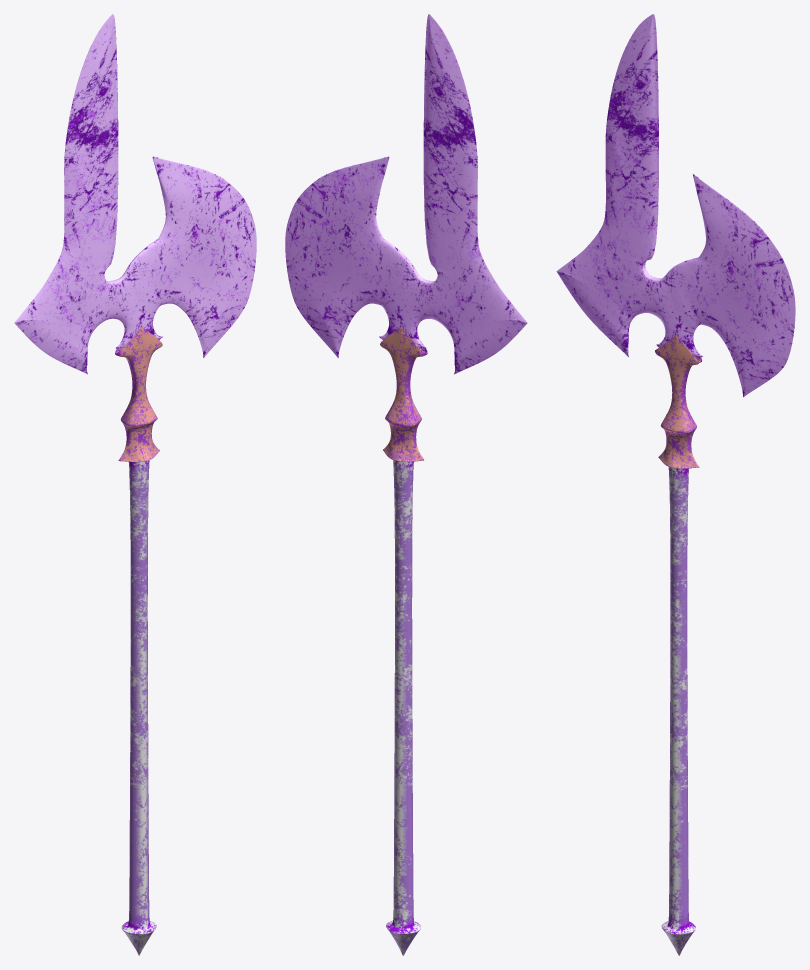
The model's file is Alabarda_Textura.glb.
3 views of the same model, side by side, from view 1: azimuth 30°, elevation 25°; view 2: azimuth 150°, elevation 25°; view 3: azimuth 330°, elevation 25° (orthographic).
Visible parts, largest first — view 1: Alabarda.002, Alabarda, Alabarda.001; view 2: Alabarda.002, Alabarda, Alabarda.001; view 3: Alabarda.002, Alabarda, Alabarda.001.
Boxes of the visible parts, left/top/right/bottom form: Alabarda.002: left=14, top=14, right=256, bottom=374; Alabarda: left=121, top=460, right=156, bottom=955; Alabarda.001: left=115, top=327, right=162, bottom=462; Alabarda.002: left=285, top=14, right=527, bottom=374; Alabarda: left=386, top=460, right=420, bottom=955; Alabarda.001: left=380, top=327, right=427, bottom=461; Alabarda.002: left=556, top=14, right=795, bottom=397; Alabarda: left=661, top=467, right=695, bottom=955; Alabarda.001: left=655, top=335, right=701, bottom=468.
Size of the model in its own units: 85.22 by 318 by 10.49.
3 materials, 3 textured.
